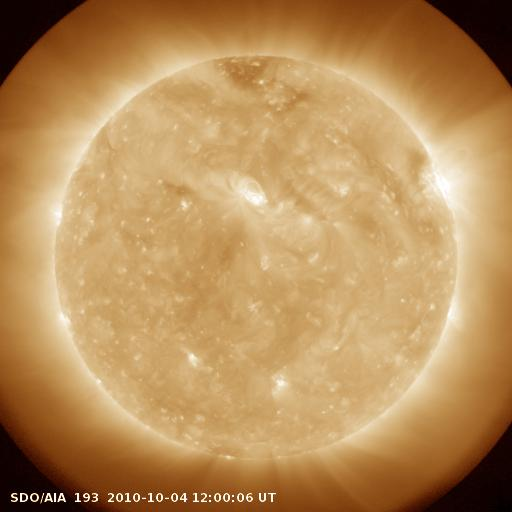coronal_hole: (209, 50, 312, 114)
